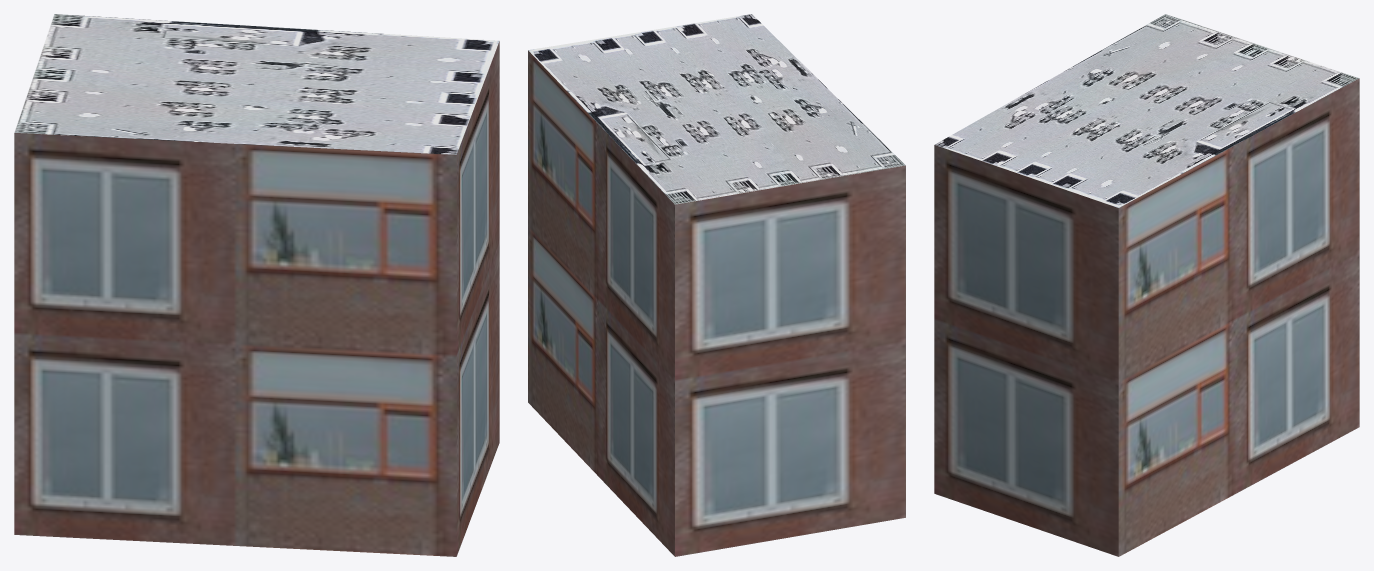
The model's file is ResTex__830.fbx.
3 renders of one model, left to right at view 1: azimuth 30°, elevation 25°; view 2: azimuth 150°, elevation 25°; view 3: azimuth 270°, elevation 25°, orthographic. The views are drawn at different scales.
Visible parts, largest first — view 1: CityEngineMaterial_19_m, CityEngineMaterial_15_m; view 2: CityEngineMaterial_19_m, CityEngineMaterial_15_m; view 3: CityEngineMaterial_19_m, CityEngineMaterial_15_m.
Boxes of the visible parts, box(x1,y1,x2,y2) form: CityEngineMaterial_19_m: box(14, 41, 499, 556); CityEngineMaterial_15_m: box(14, 14, 499, 154); CityEngineMaterial_19_m: box(528, 50, 905, 556); CityEngineMaterial_15_m: box(528, 14, 905, 204); CityEngineMaterial_19_m: box(934, 78, 1359, 556); CityEngineMaterial_15_m: box(934, 14, 1359, 207).
Bounding box in the file's own units: 7.16 × 6 × 6.63.
Materials: 2 (2 with a texture image).
